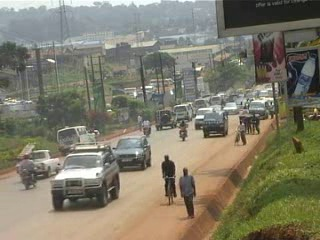Car: (47, 142, 123, 212), (110, 133, 153, 174), (192, 105, 214, 133), (153, 106, 178, 130), (233, 94, 249, 110), (222, 102, 241, 115), (213, 103, 228, 119)
Motorcycle: (17, 154, 39, 192), (176, 120, 189, 142), (142, 117, 152, 138), (244, 98, 252, 111)
